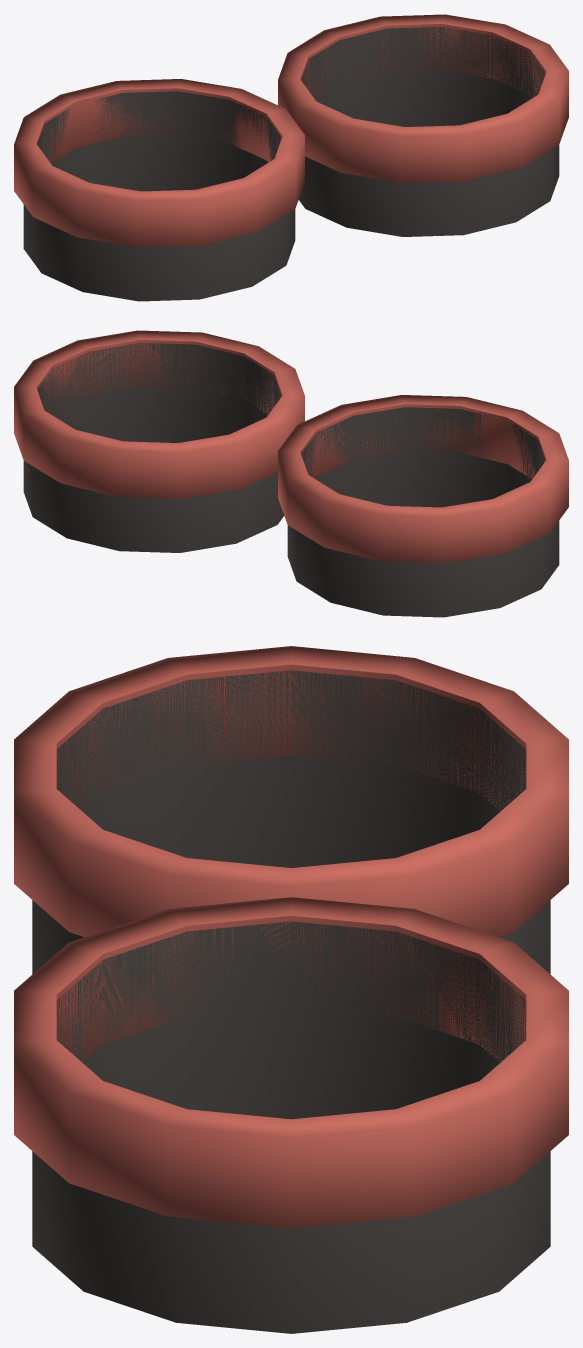
File: knee_braces.glb
3 views of the same model, one above another, from view 1: azimuth 30°, elevation 25°; view 2: azimuth 150°, elevation 25°; view 3: azimuth 270°, elevation 25° (orthographic). The views are drawn at different scales.
Visible parts, largest first — view 1: knee_braces_LegL, knee_braces_LegR; view 2: knee_braces_LegL, knee_braces_LegR; view 3: knee_braces_LegR, knee_braces_LegL.
Part boxes in pixels (left/top/right/bottom): knee_braces_LegL: left=14, top=79, right=304, bottom=301; knee_braces_LegR: left=278, top=14, right=568, bottom=236; knee_braces_LegL: left=278, top=395, right=568, bottom=617; knee_braces_LegR: left=14, top=330, right=304, bottom=552; knee_braces_LegR: left=14, top=897, right=568, bottom=1333; knee_braces_LegL: left=14, top=646, right=568, bottom=974.
Bounding box in the file's own units: 0.372 × 0.072 × 0.1774.
